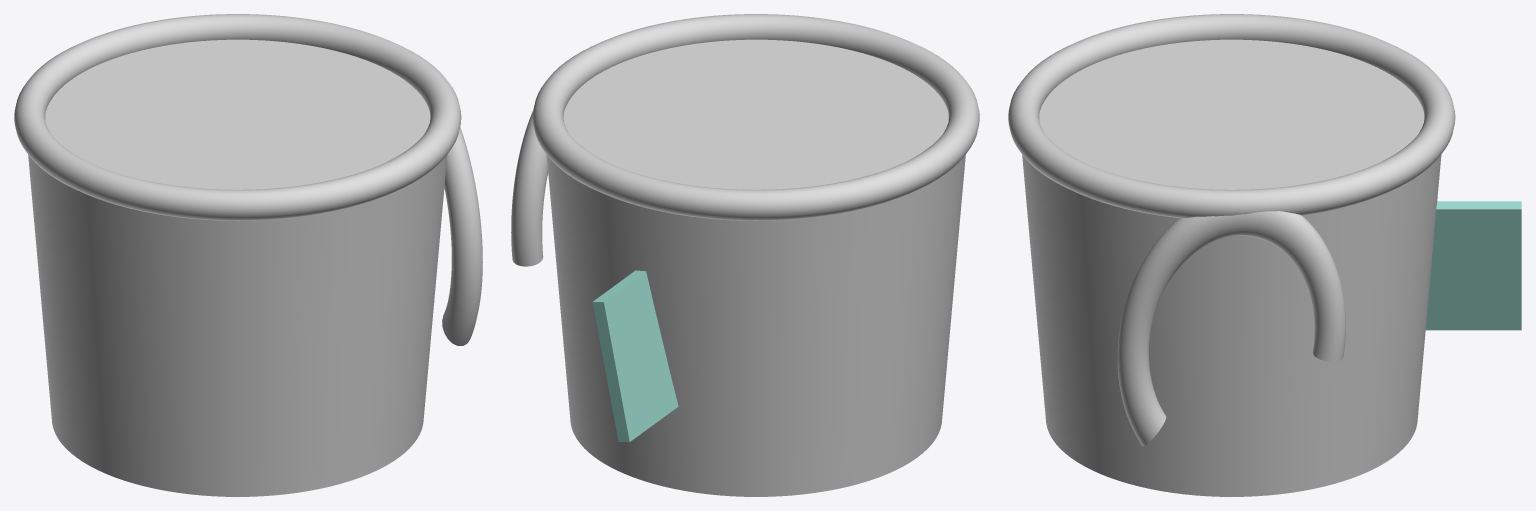
Rendered from creaciones-dm-mug.glb.
The picture shows the model from 3 angles, left to right: view 1: azimuth 30°, elevation 25°; view 2: azimuth 150°, elevation 25°; view 3: azimuth 270°, elevation 25°; orthographic projection.
Bounding box in the file's own units: 1.01 × 0.795 × 1.16.
